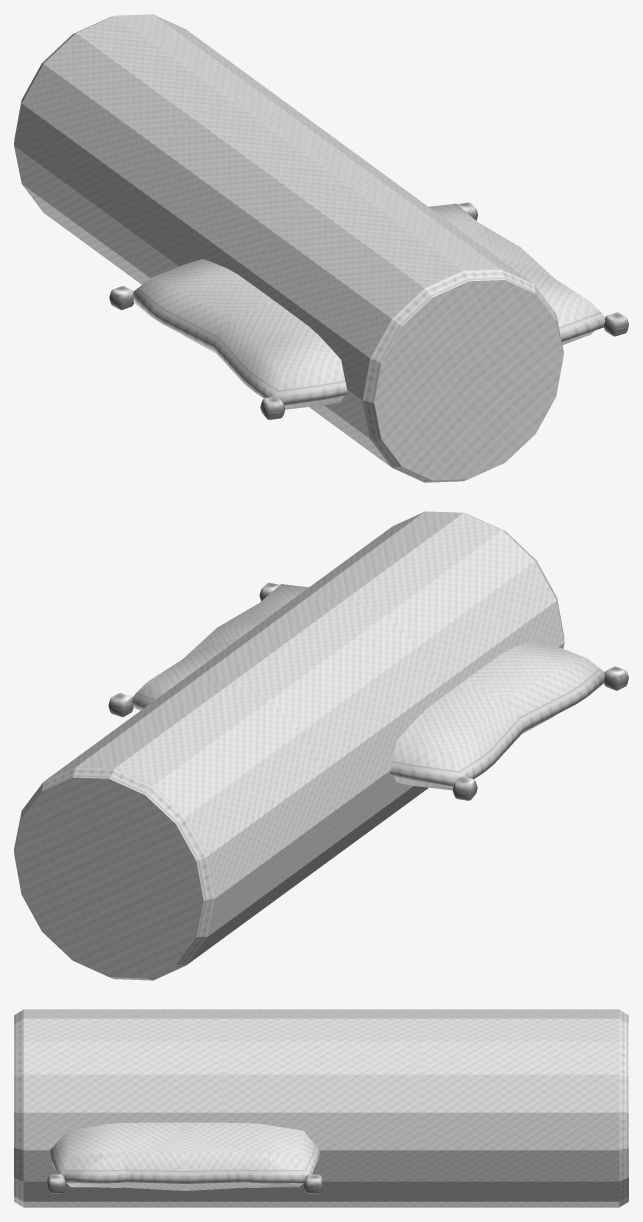
File: pillowset.fbx
3 renders of one model, top to bottom at view 1: azimuth 30°, elevation 25°; view 2: azimuth 150°, elevation 25°; view 3: azimuth 270°, elevation 25°, orthographic. The views are drawn at different scales.
Visible parts, largest first — view 1: pillow2, pillow1, pillow3; view 2: pillow2, pillow1, pillow3; view 3: pillow2, pillow1, pillow3.
Part boxes in pixels (left/top/right/bottom): pillow2: left=14, top=14, right=563, bottom=482; pillow1: left=109, top=202, right=628, bottom=419; pillow3: left=452, top=203, right=605, bottom=335; pillow2: left=14, top=511, right=564, bottom=980; pillow1: left=108, top=582, right=628, bottom=800; pillow3: left=132, top=583, right=285, bottom=699; pillow2: left=14, top=1009, right=628, bottom=1207; pillow1: left=46, top=1122, right=323, bottom=1193; pillow3: left=62, top=1124, right=308, bottom=1190.
Size of the model in its own units: 222 by 123 by 381.
